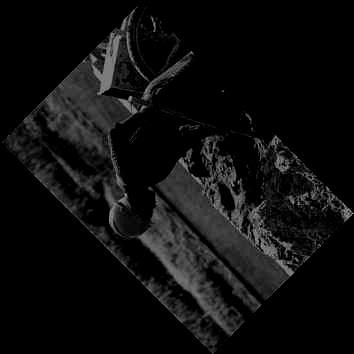helmet: (108, 188, 157, 239)
